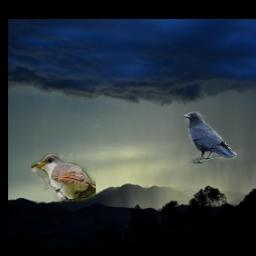Crow: (184, 113, 238, 164)
Cuckoo: (31, 154, 96, 202)
